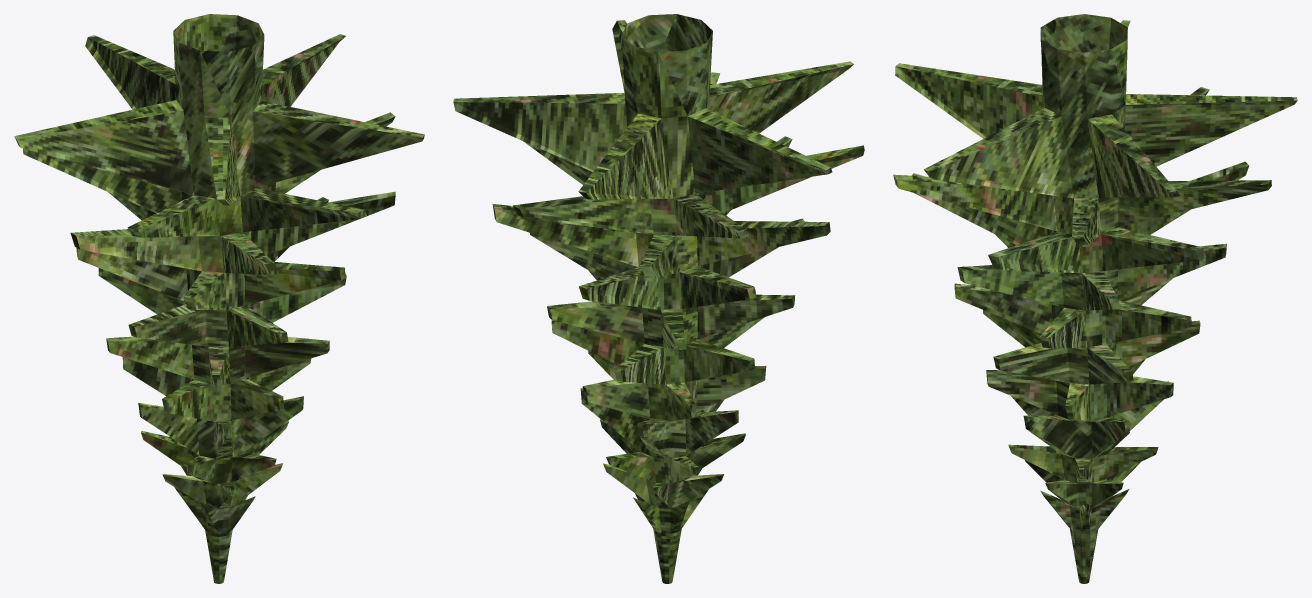
The model's file is Kuusi1.fbx.
The picture shows the model from 3 angles, left to right: view 1: azimuth 30°, elevation 25°; view 2: azimuth 150°, elevation 25°; view 3: azimuth 270°, elevation 25°; orthographic projection.
Visible parts, largest first — view 1: Cylinder001; view 2: Cylinder001; view 3: Cylinder001.
Part boxes in pixels (left/top/right/bottom): Cylinder001: left=14, top=14, right=424, bottom=583; Cylinder001: left=453, top=14, right=864, bottom=583; Cylinder001: left=893, top=14, right=1297, bottom=583.
Bounding box in the file's own units: 137 × 203 × 136.
1 material, 1 textured.
